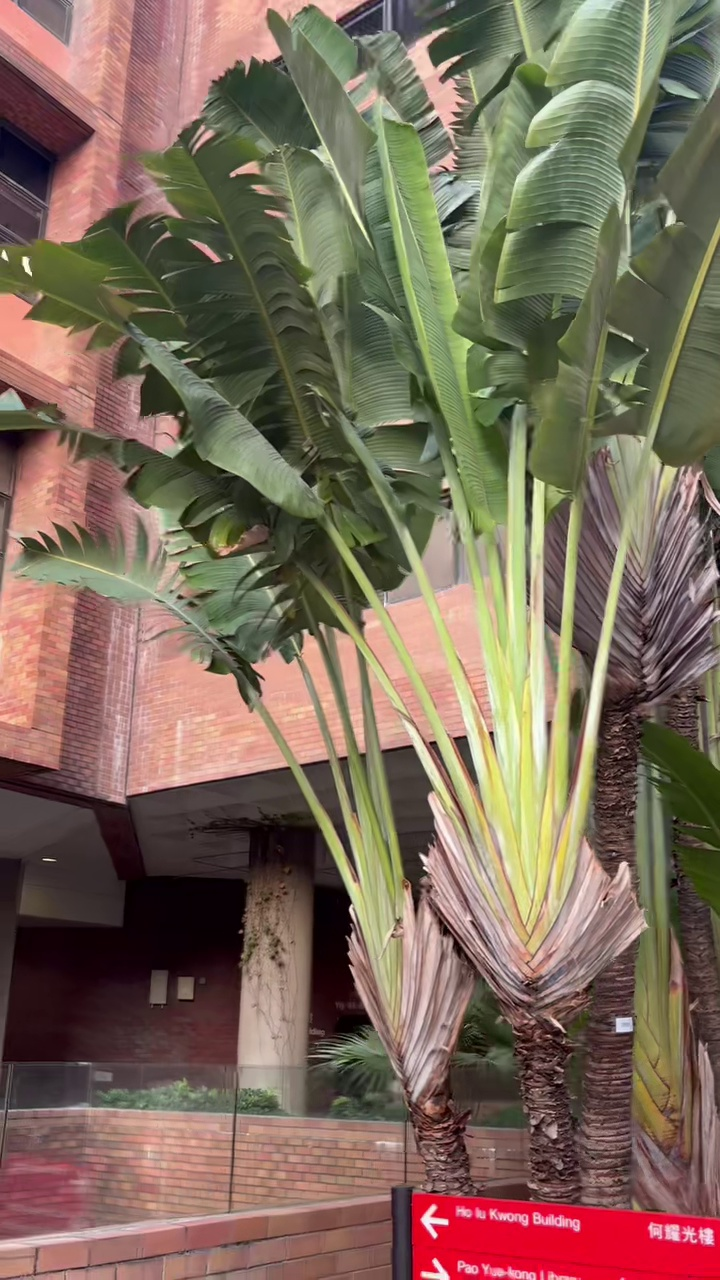Travellers-tree: (0, 0, 717, 1201)
